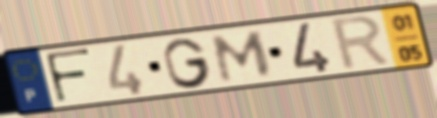4: (291, 20, 334, 76), (106, 41, 147, 98)
F: (42, 46, 94, 106)
G: (160, 35, 215, 90)
M: (210, 29, 275, 85)
R: (329, 12, 396, 74)
